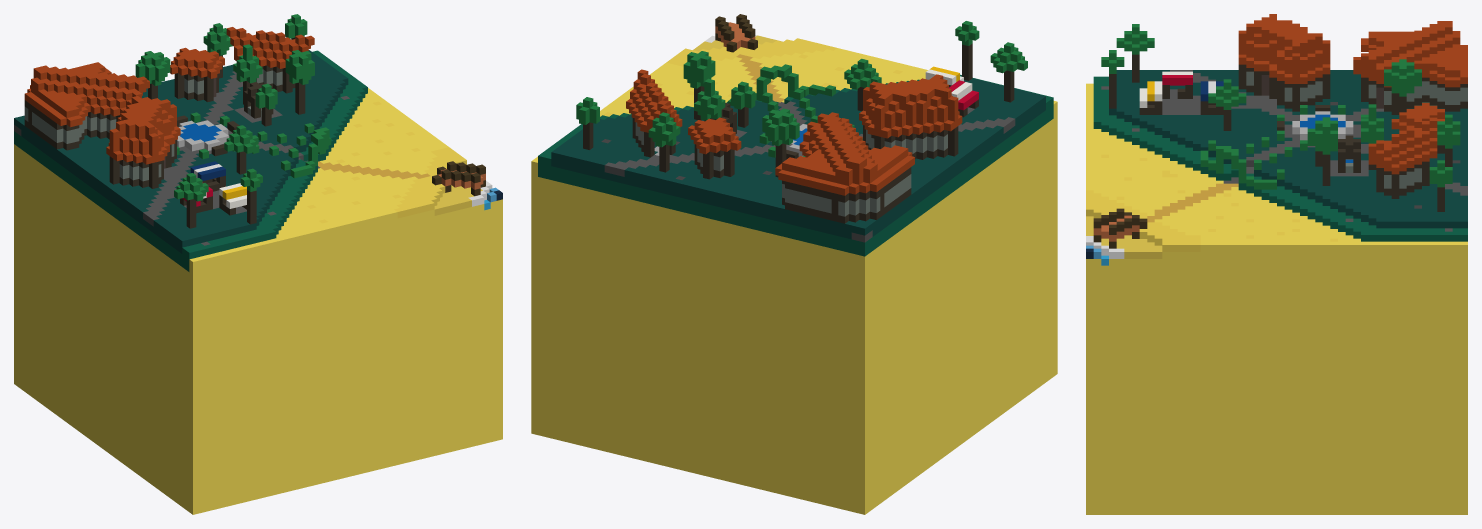
File: wall4 cкин 1.obj
3 views of the same model, side by side, from view 1: azimuth 30°, elevation 25°; view 2: azimuth 150°, elevation 25°; view 3: azimuth 270°, elevation 25° (orthographic). The views are drawn at different scales.
Size of the model in its own units: 5 by 5 by 5.
1 material, 1 textured.
